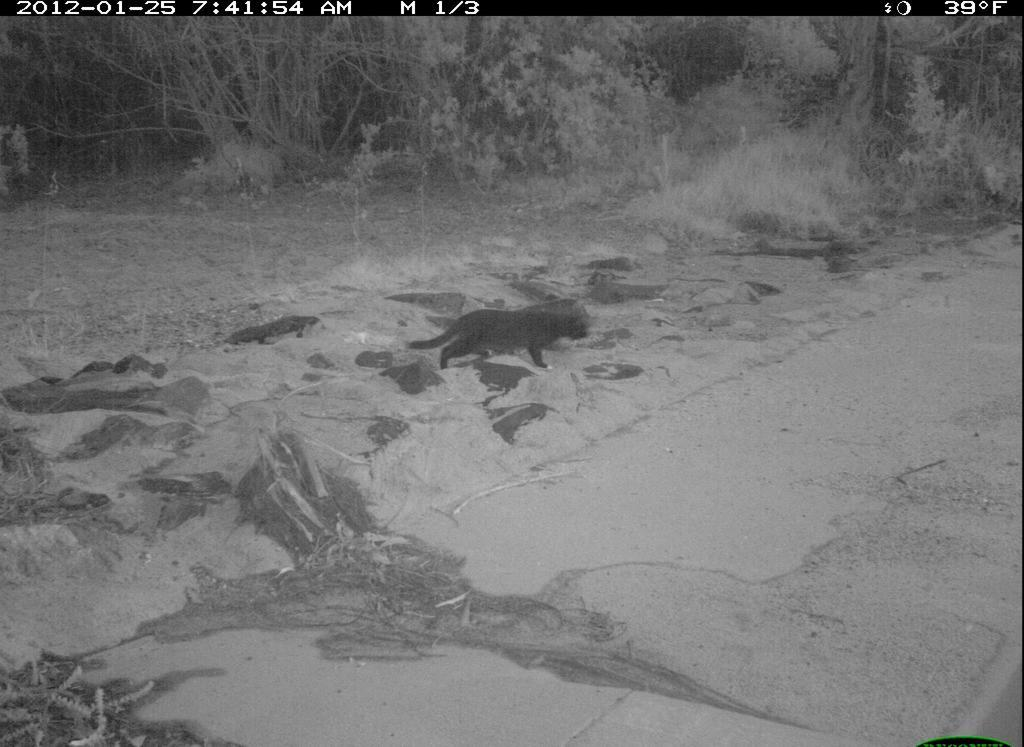cat: (406, 306, 591, 373)
